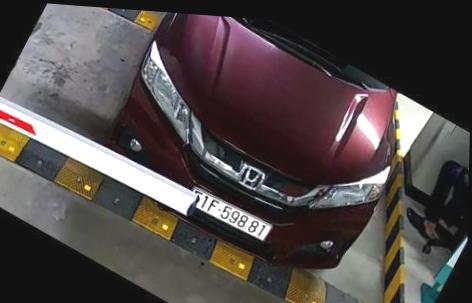License_Plate: (186, 184, 278, 245)
